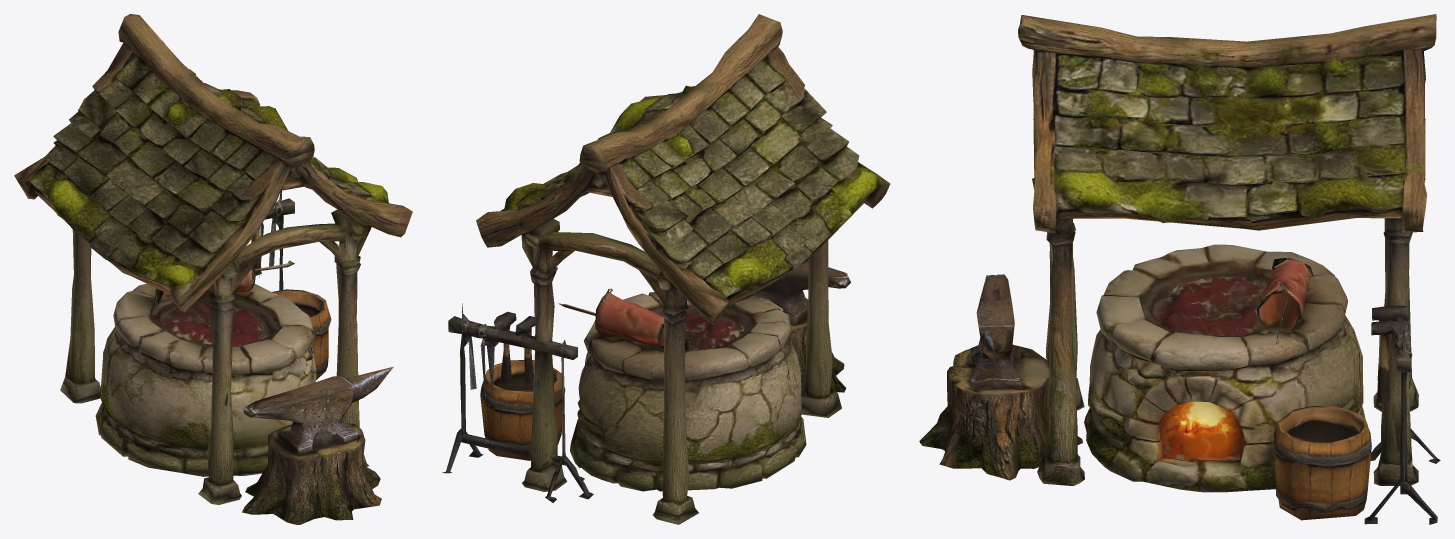
Rendered from town_station_forge_canopy.glb.
3 views of the same model, side by side, from view 1: azimuth 30°, elevation 25°; view 2: azimuth 150°, elevation 25°; view 3: azimuth 270°, elevation 25° (orthographic). The views are drawn at different scales.
Parts seen in each view (by area): view 1: tripo_node_7808a0f9-9cd0-4b9b-96e6-0ce26bd9df30; view 2: tripo_node_7808a0f9-9cd0-4b9b-96e6-0ce26bd9df30; view 3: tripo_node_7808a0f9-9cd0-4b9b-96e6-0ce26bd9df30.
Part boxes in pixels (box(x1,y1,x2,y2)): tripo_node_7808a0f9-9cd0-4b9b-96e6-0ce26bd9df30: box(14, 14, 412, 524); tripo_node_7808a0f9-9cd0-4b9b-96e6-0ce26bd9df30: box(442, 14, 890, 524); tripo_node_7808a0f9-9cd0-4b9b-96e6-0ce26bd9df30: box(919, 14, 1440, 524).
Bounding box in the file's own units: 3.61 × 4.49 × 4.99.
1 material, 1 textured.
